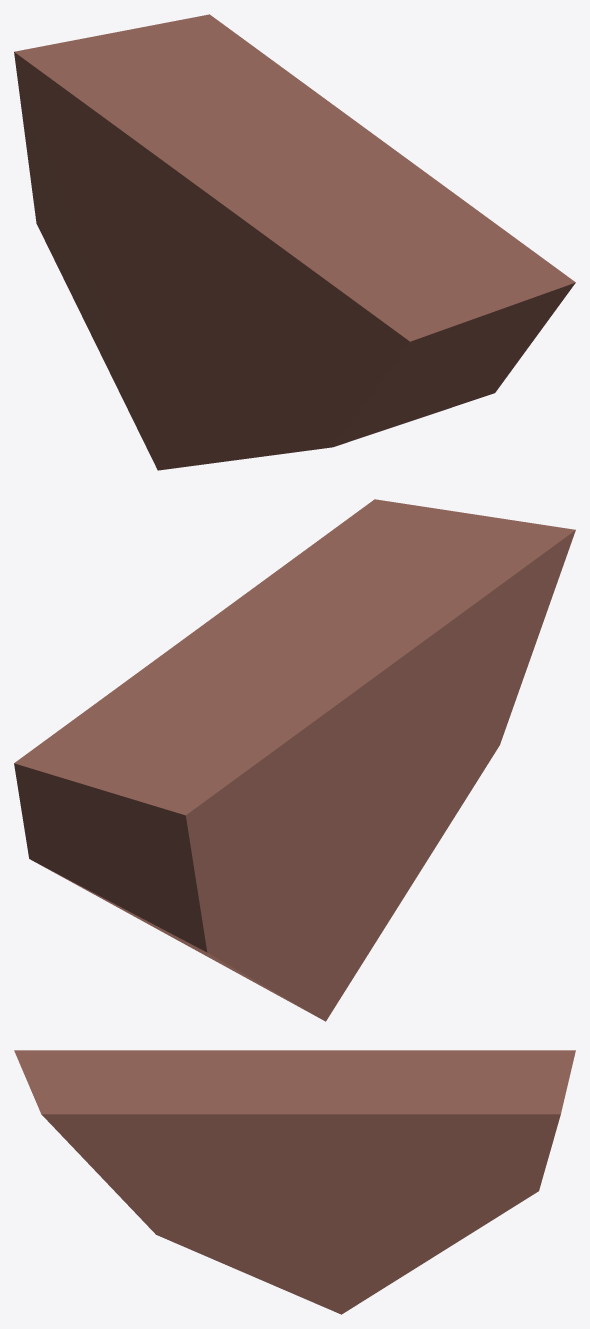
File: T_MurDetruit_7.2.fbx
3 views of the same model, one above another, from view 1: azimuth 30°, elevation 25°; view 2: azimuth 150°, elevation 25°; view 3: azimuth 270°, elevation 25° (orthographic). The views are drawn at different scales.
Parts seen in each view (by area): view 1: T_MurDetruit_7.2; view 2: T_MurDetruit_7.2; view 3: T_MurDetruit_7.2.
Boxes of the visible parts, x1,y1,x2,y2 form: T_MurDetruit_7.2: (14, 14, 575, 470); T_MurDetruit_7.2: (14, 499, 575, 1021); T_MurDetruit_7.2: (14, 1050, 575, 1314).
Size of the model in its own units: 13.48 by 21.87 by 49.97.
